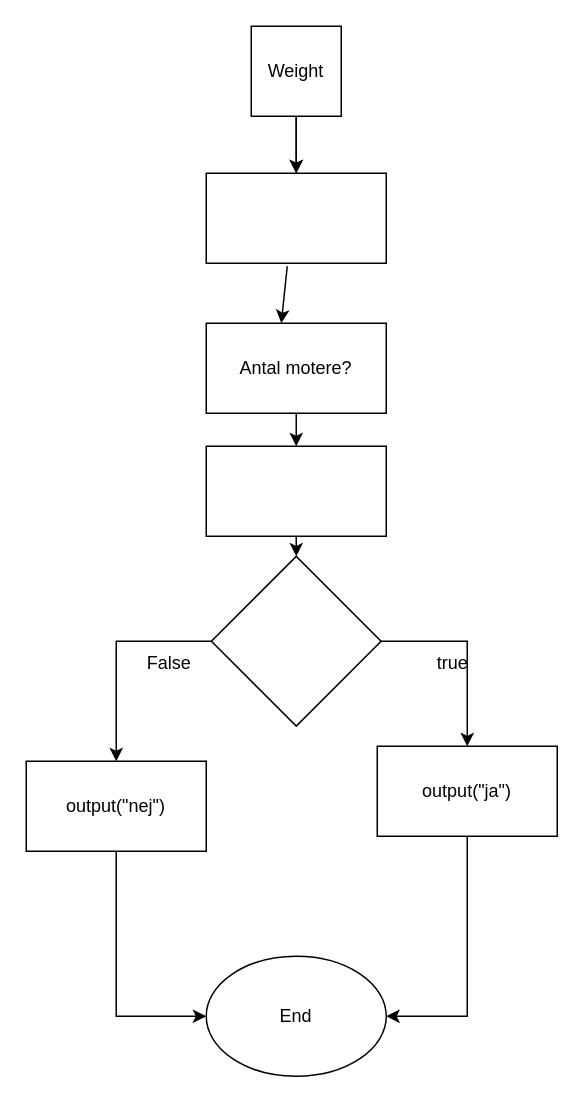
The diagram is 584 pixels wide and 1103 high, and some of its shapes have lost their labels. Here are the shapes that lost their labels. From the top down, the centre of each, then its label:
the point at 295,217: W=input()
the point at 295,490: Antal_moterer=input()
the point at 295,640: Wight/antal_moterer>5.6?
